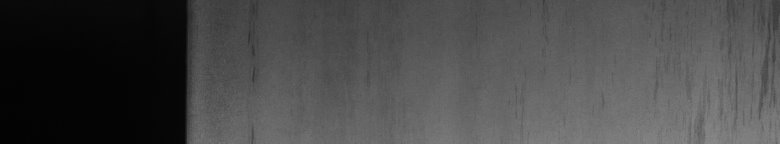ka: (700, 41, 776, 128)
